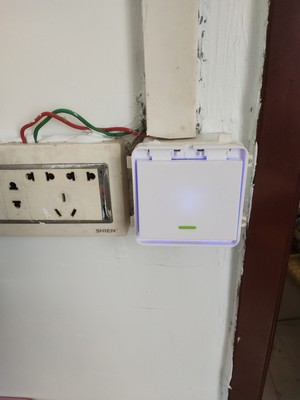switch: (133, 155, 240, 243)
